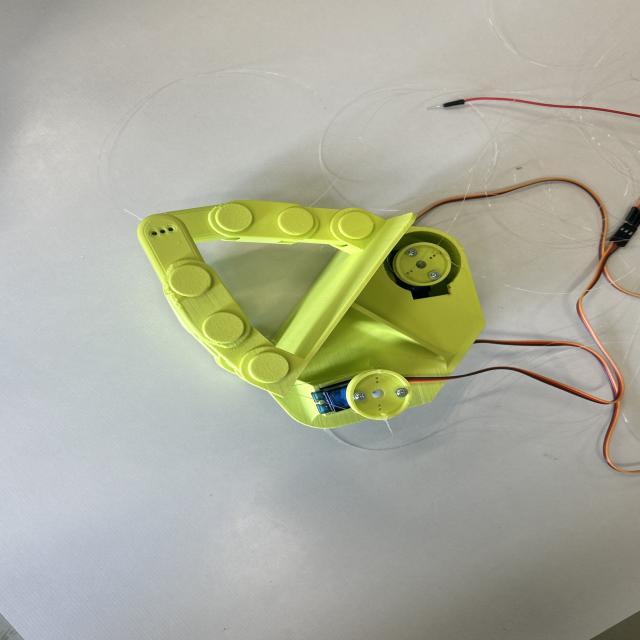prosthetic: (138, 198, 488, 444)
